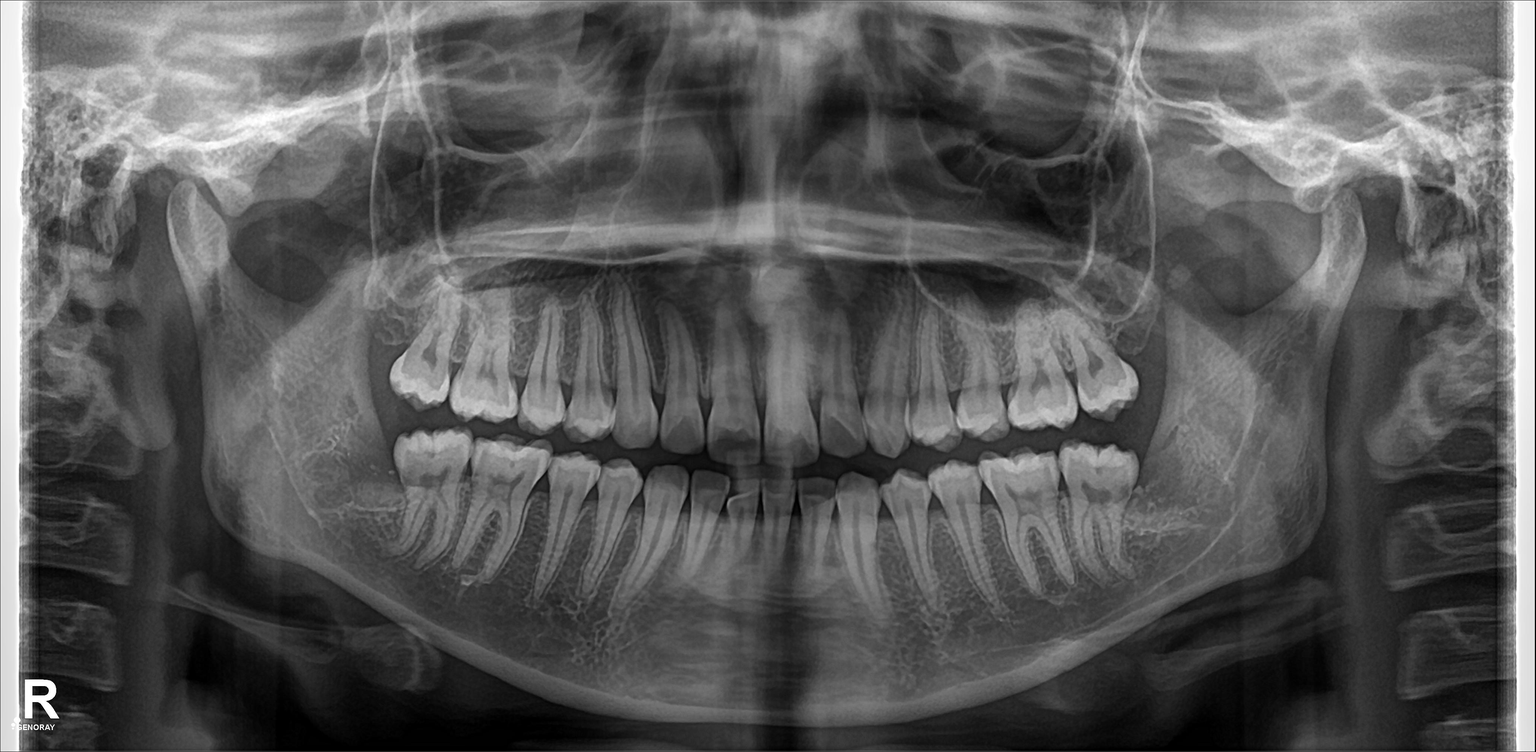Dental Caries: (715, 424, 758, 457)
Missing Tooth: (356, 277, 413, 377), (1121, 305, 1167, 411), (363, 413, 404, 509)
